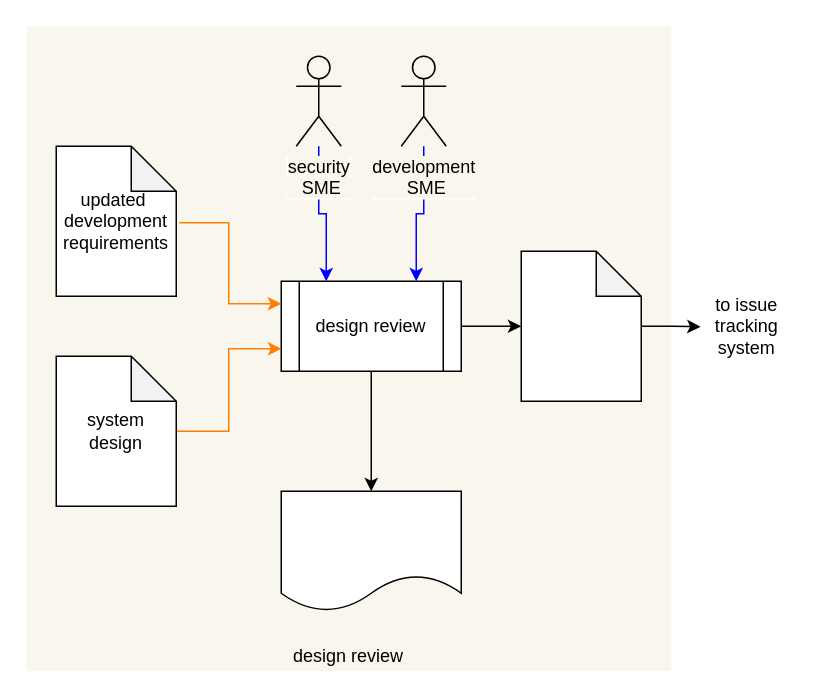
Some shapes in this 816 by 696 pixel diagram are drawn without their labels. The centre of each missing label's shape, as x and y in pixels:
identified design deficiencies: the point at 580,325
security design review report: the point at 370,550
